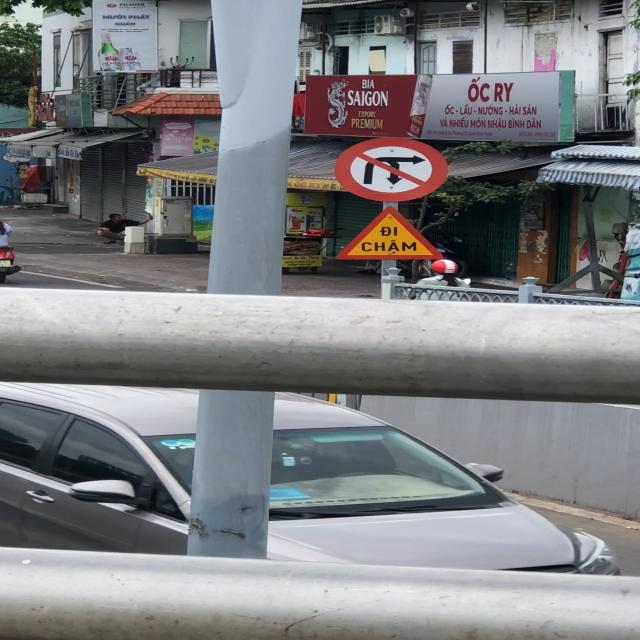Bien bao cam re phai va quay dau: (331, 132, 450, 204)
